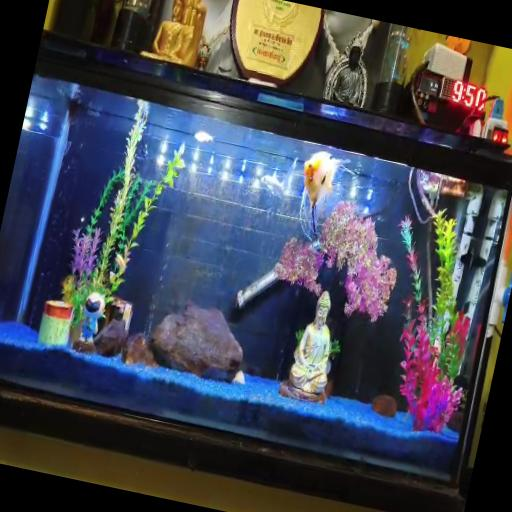Fish: (303, 152, 349, 239), (260, 159, 297, 196), (260, 175, 284, 196), (194, 131, 213, 143)
